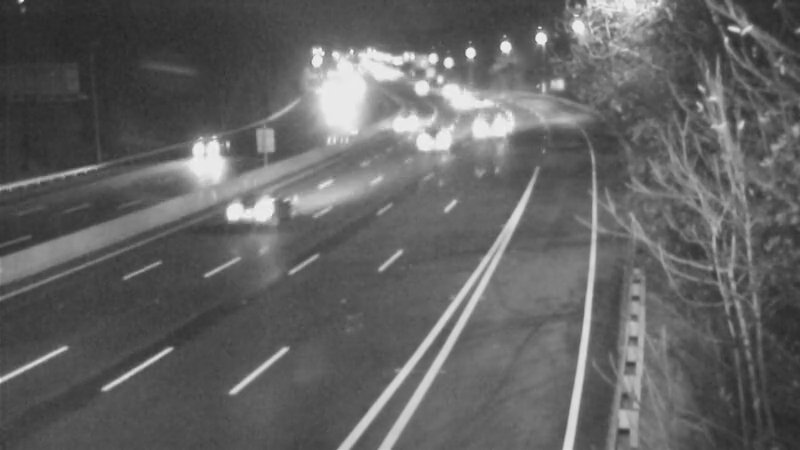vehicle: (217, 170, 297, 250), (393, 62, 443, 112), (429, 77, 479, 127), (451, 74, 501, 124), (379, 98, 429, 148), (459, 102, 509, 152), (413, 109, 463, 159), (177, 123, 227, 173)
